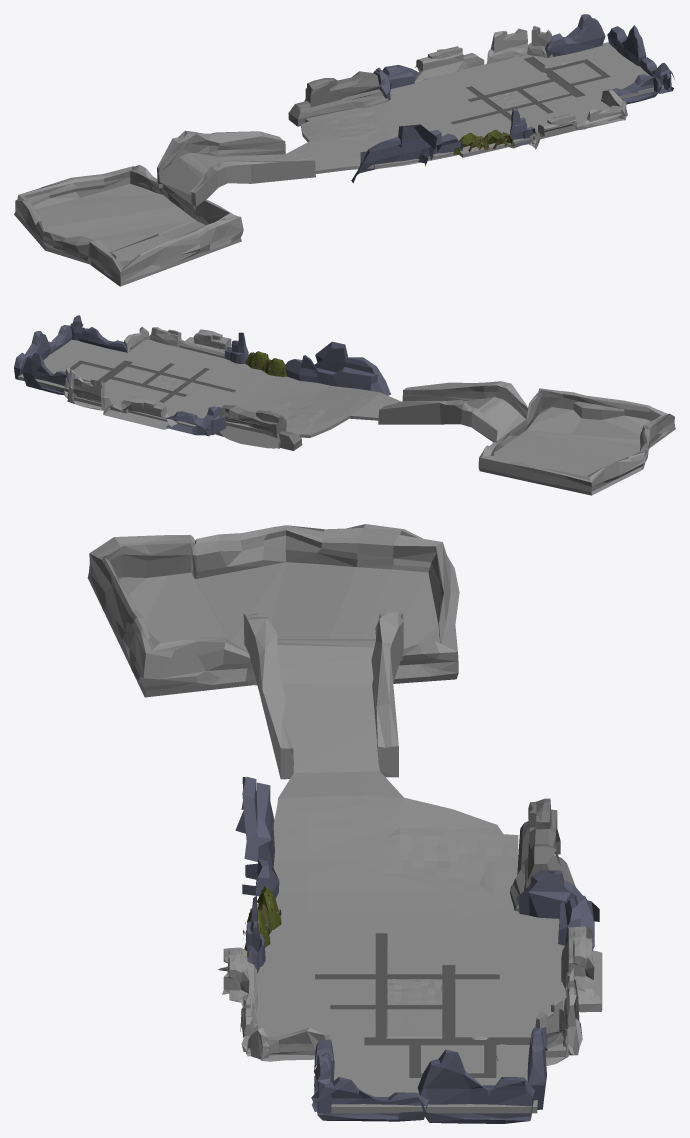
Rendered from WIL_ThirdLevel_Border_Final_Buildings not on level_Retry.fbx.
The picture shows the model from 3 angles, top to bottom: view 1: azimuth 30°, elevation 25°; view 2: azimuth 150°, elevation 25°; view 3: azimuth 270°, elevation 25°; orthographic projection. The views are drawn at different scales.
Parts seen in each view (by area): view 1: City Base; view 2: City Base; view 3: City Base.
Part boxes in pixels (x1,y1,x2,y2): City Base: [14, 14, 674, 286]; City Base: [14, 315, 675, 495]; City Base: [87, 524, 602, 1123].
Size of the model in its own units: 269768 by 24251 by 105200.
